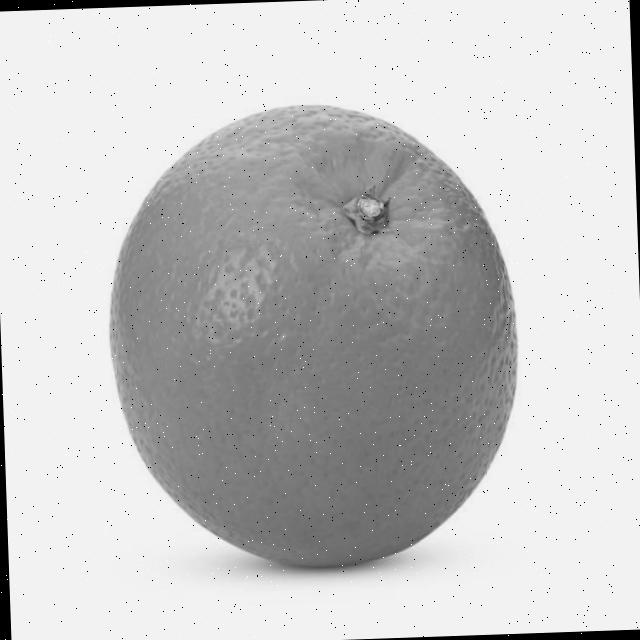Ripe: (94, 91, 532, 580)
